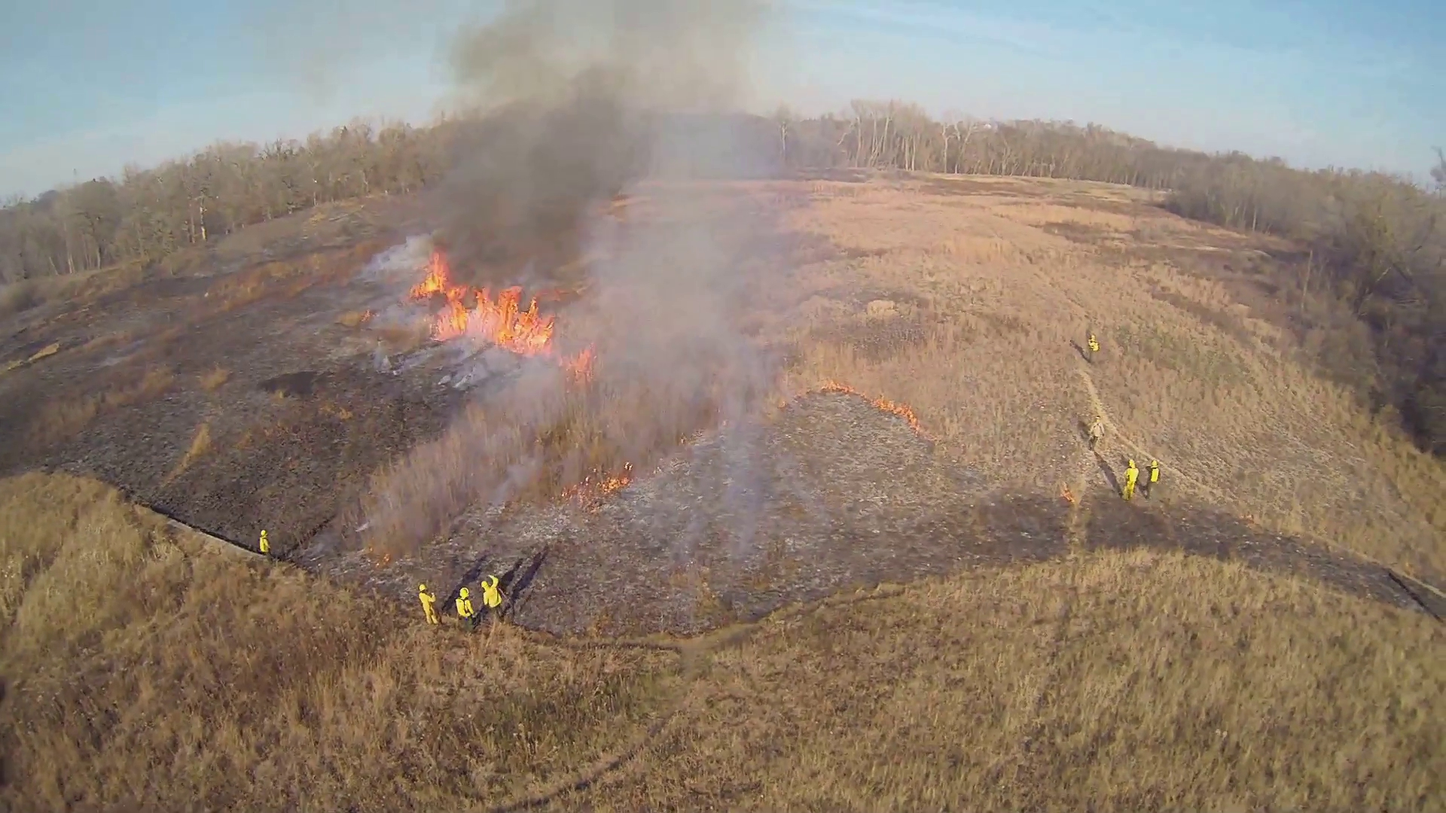forest_fire: (408, 249, 592, 376)
